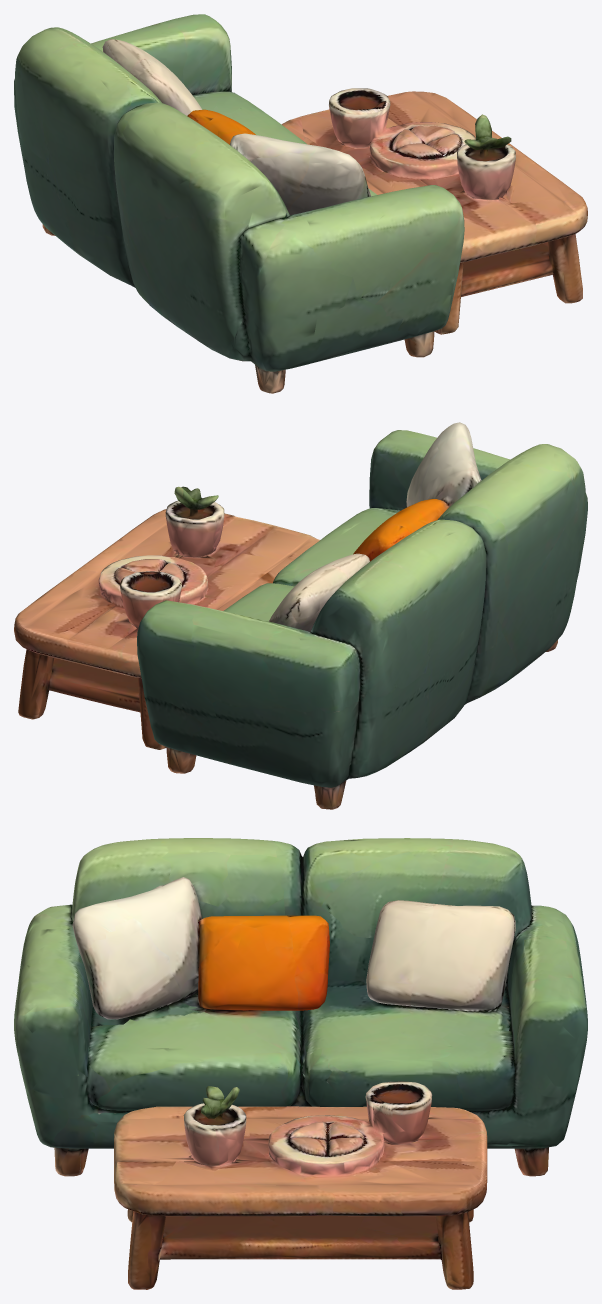
Rendered from civic-seating.glb.
3 views of the same model, one above another, from view 1: azimuth 30°, elevation 25°; view 2: azimuth 150°, elevation 25°; view 3: azimuth 270°, elevation 25° (orthographic). The views are drawn at different scales.
Visible parts, largest first — view 1: tripo_node_ffccd57a-6da2-4b2e-bbb6-c1b06577cf1b; view 2: tripo_node_ffccd57a-6da2-4b2e-bbb6-c1b06577cf1b; view 3: tripo_node_ffccd57a-6da2-4b2e-bbb6-c1b06577cf1b.
Part boxes in pixels (x1=…): tripo_node_ffccd57a-6da2-4b2e-bbb6-c1b06577cf1b: x1=14, y1=14, x2=587, y2=393; tripo_node_ffccd57a-6da2-4b2e-bbb6-c1b06577cf1b: x1=14, y1=422, x2=587, y2=809; tripo_node_ffccd57a-6da2-4b2e-bbb6-c1b06577cf1b: x1=14, y1=838, x2=587, y2=1289.
Bounding box in the file's own units: 0.893 × 0.4917 × 0.9997.
Materials: 1 (1 with a texture image).
